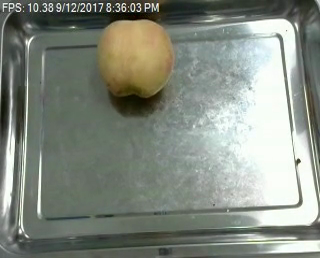Peach: (97, 18, 174, 98)
